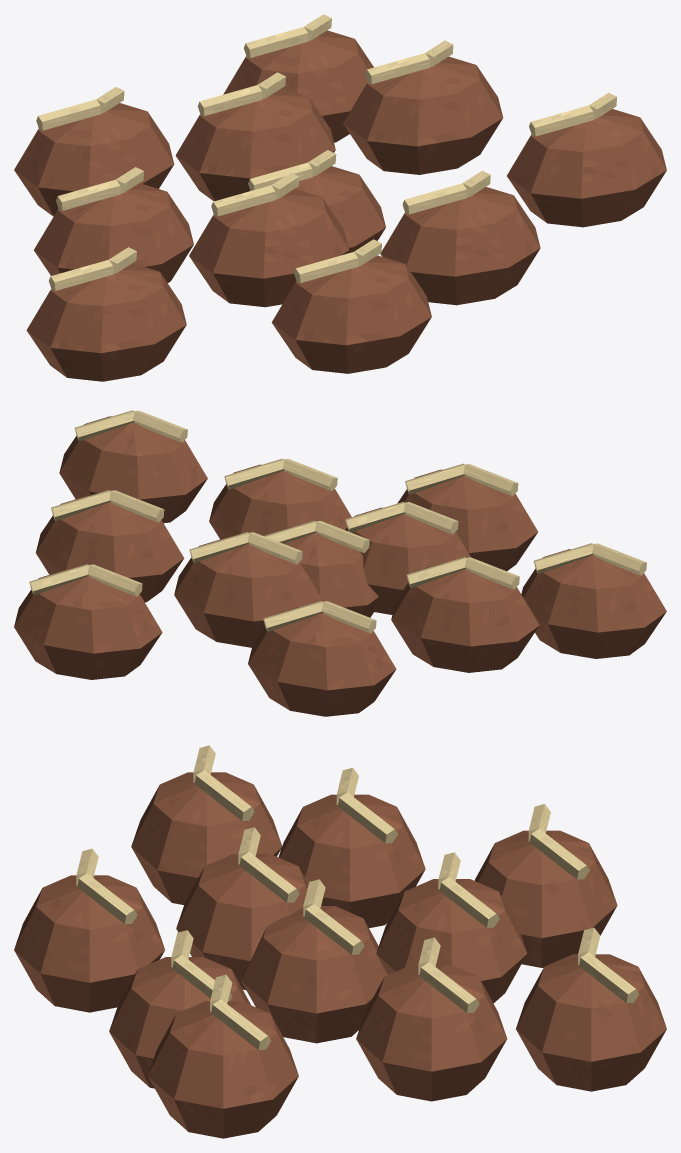
File: chestnut_roasted.glb
3 renders of one model, top to bottom at view 1: azimuth 30°, elevation 25°; view 2: azimuth 150°, elevation 25°; view 3: azimuth 270°, elevation 25°, orthographic. The views are drawn at different scales.
Visible parts, largest first — view 1: block_brown roasted chestnut (×11), block_split nut skin 0 (×11); view 2: block_brown roasted chestnut (×11), block_split nut skin 0 (×11), block_split nut skin 1 (×11); view 3: block_brown roasted chestnut (×11), block_split nut skin 1 (×11).
Boxes of the visible parts, x1,y1,x2,y2 form: block_brown roasted chestnut (×11): (14, 30, 666, 381); block_split nut skin 0 (×11): (36, 27, 593, 290); block_brown roasted chestnut (×11): (14, 416, 666, 716); block_split nut skin 0 (×11): (87, 410, 646, 633); block_split nut skin 1 (×11): (29, 410, 593, 631); block_brown roasted chestnut (×11): (14, 772, 666, 1138); block_split nut skin 1 (×11): (77, 770, 639, 1050).
Size of the model in its own units: 0.0756 by 0.0168 by 0.0615.
Materials: 1 (1 with a texture image).
